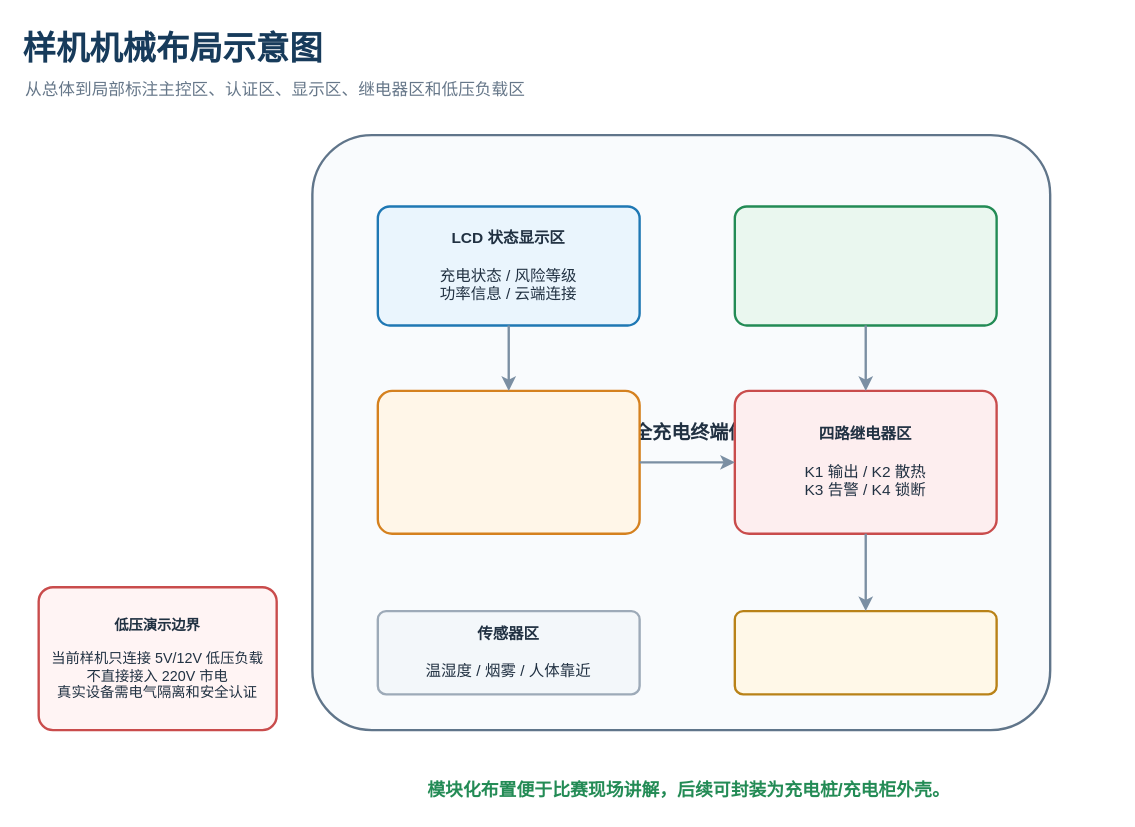
The diagram is 1135 pixels wide and 827 high, and some of its shapes have lost their labels. Here are the shapes that lost their labels. From the top down, the centre of each, then its label:
the point at 865,265: 身份认证区 RFID / 密码 / 按键 门禁认证板接口
the point at 508,461: RK2206 主控区 OpenHarmony 程序运行 I2C / UART / GPIO 汇聚
the point at 865,652: 低压负载区 灯 / 风扇 / 模拟充电输出
